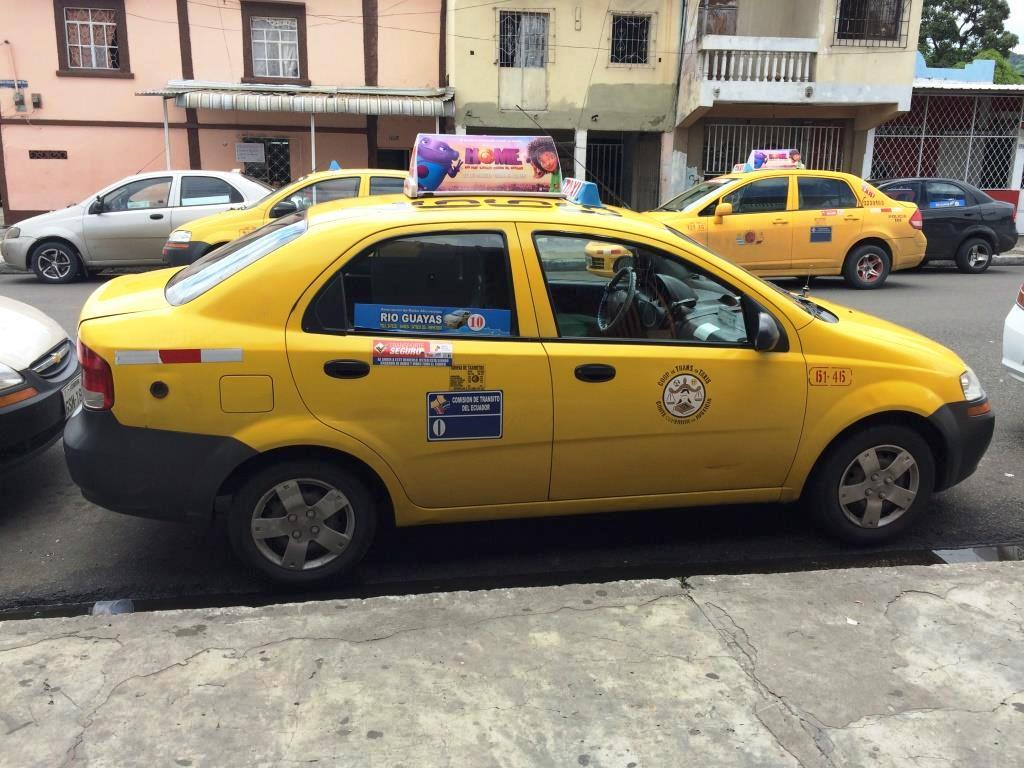taxi: (64, 202, 1024, 603)
